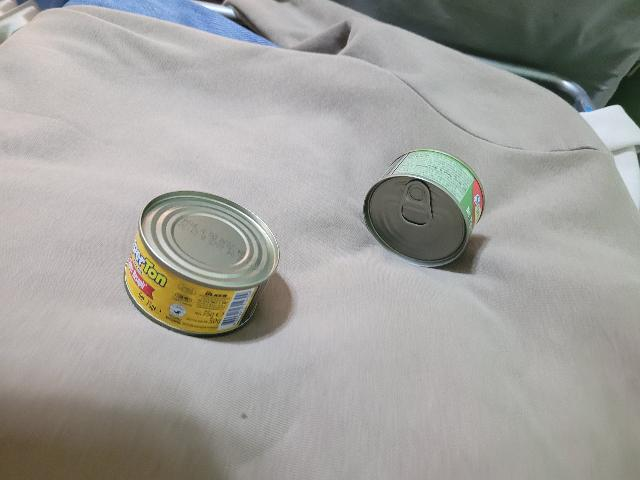Metal: (125, 189, 278, 338), (365, 146, 490, 270)
